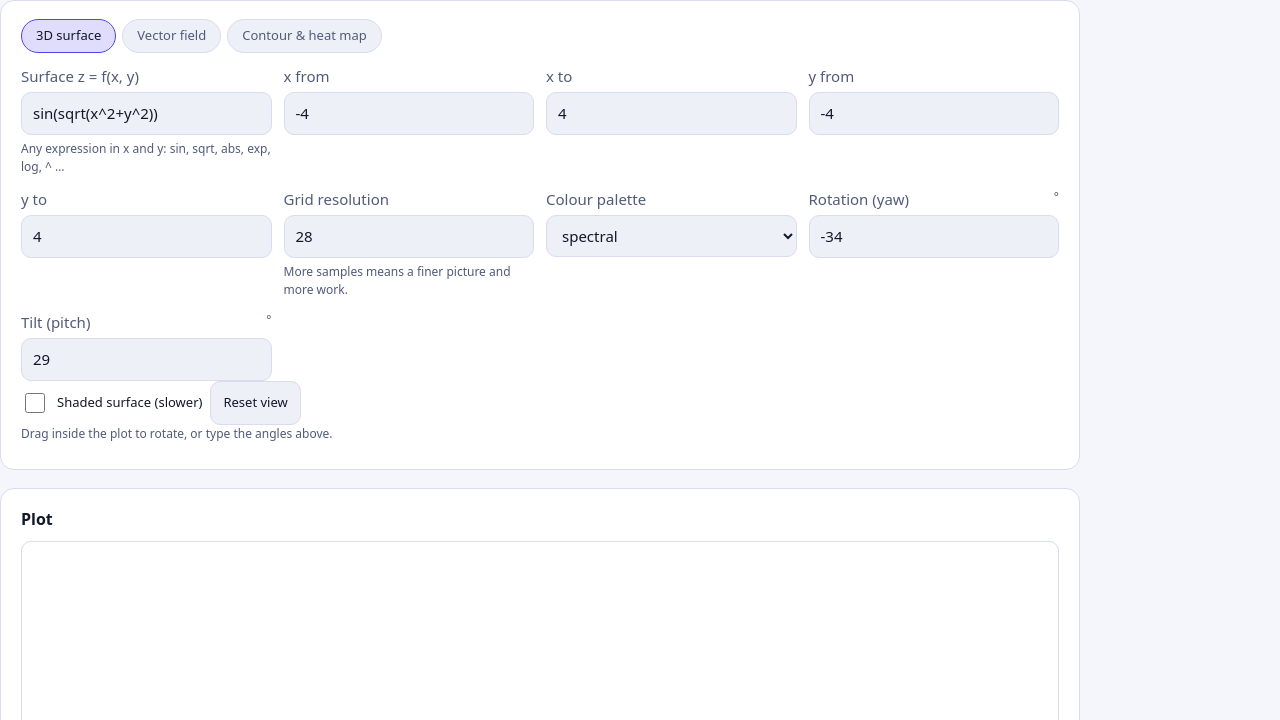
3D, vector field and contour panel › rotates the surface from the input fields
Step 1. Replace the text in the number field labelled "Rotation (yaw) °" with "45" → x=934, y=236, box [808,215,1059,258]
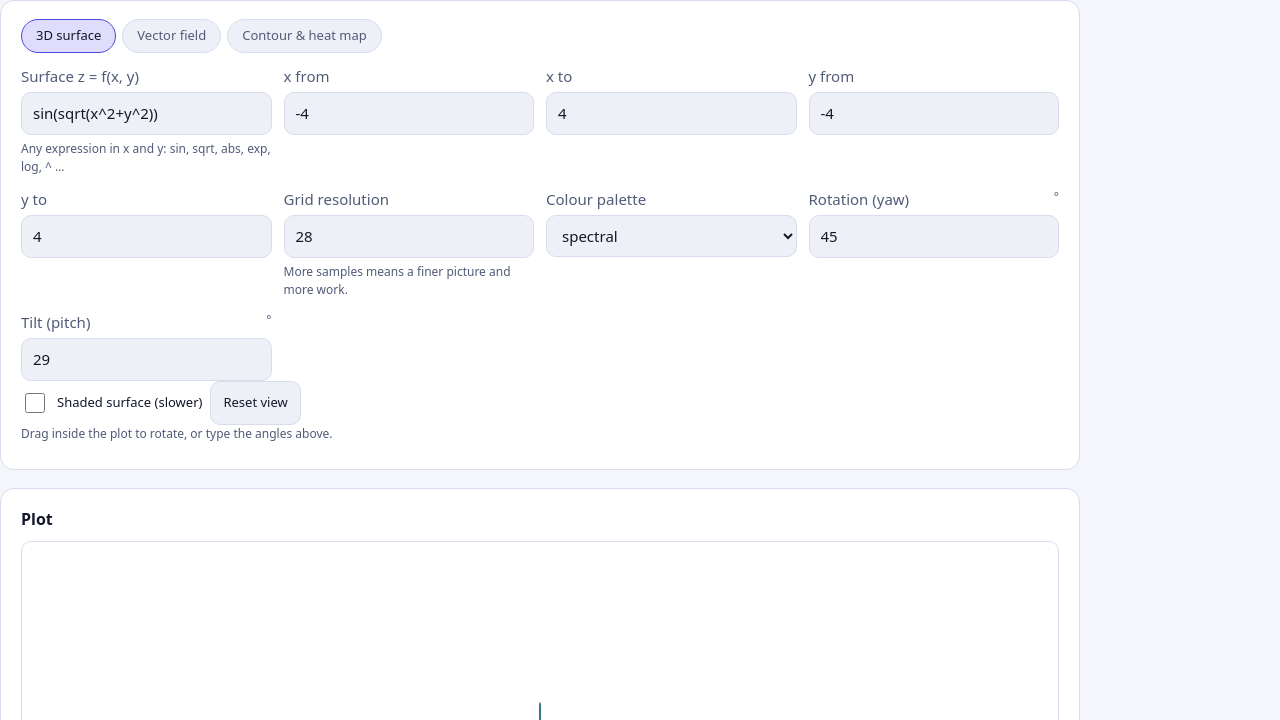
Step 2. Replace the text in the number field labelled "Tilt (pitch) °" with "60" → x=146, y=359, box [21,338,272,380]
(page scrolled)
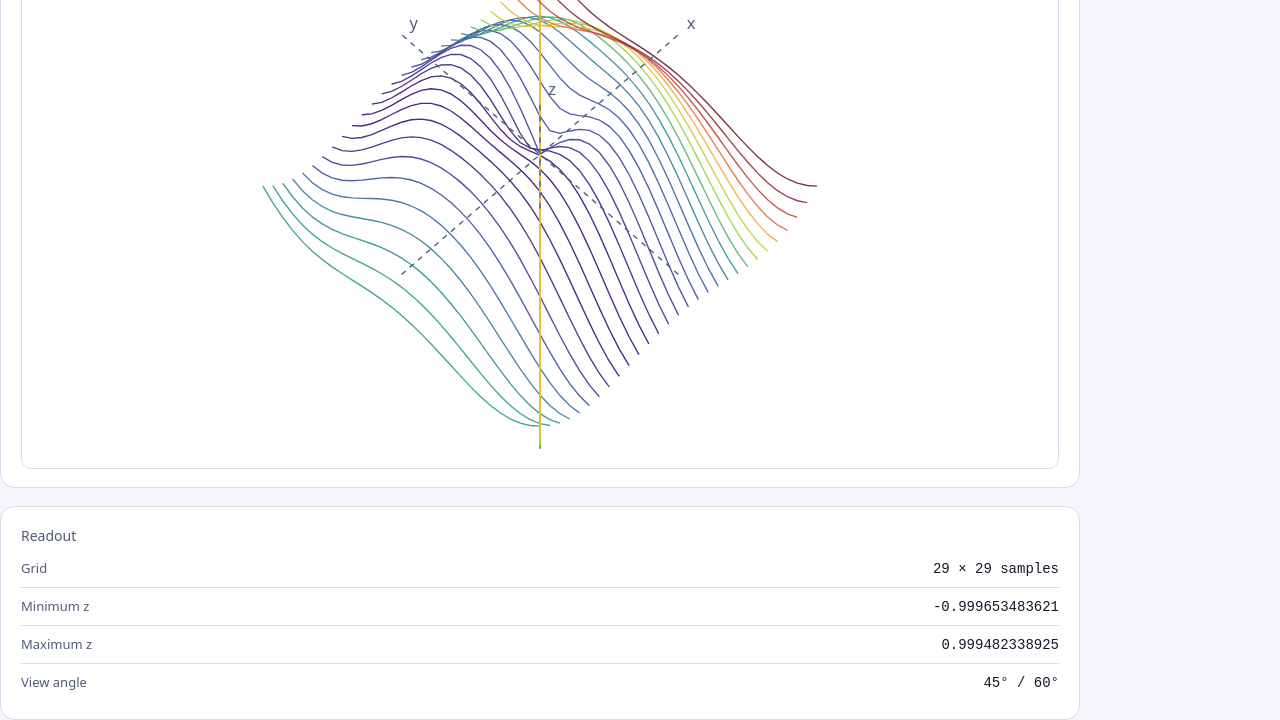
Now the text "45° / 60°" is shown, box [983,674,1059,690]
